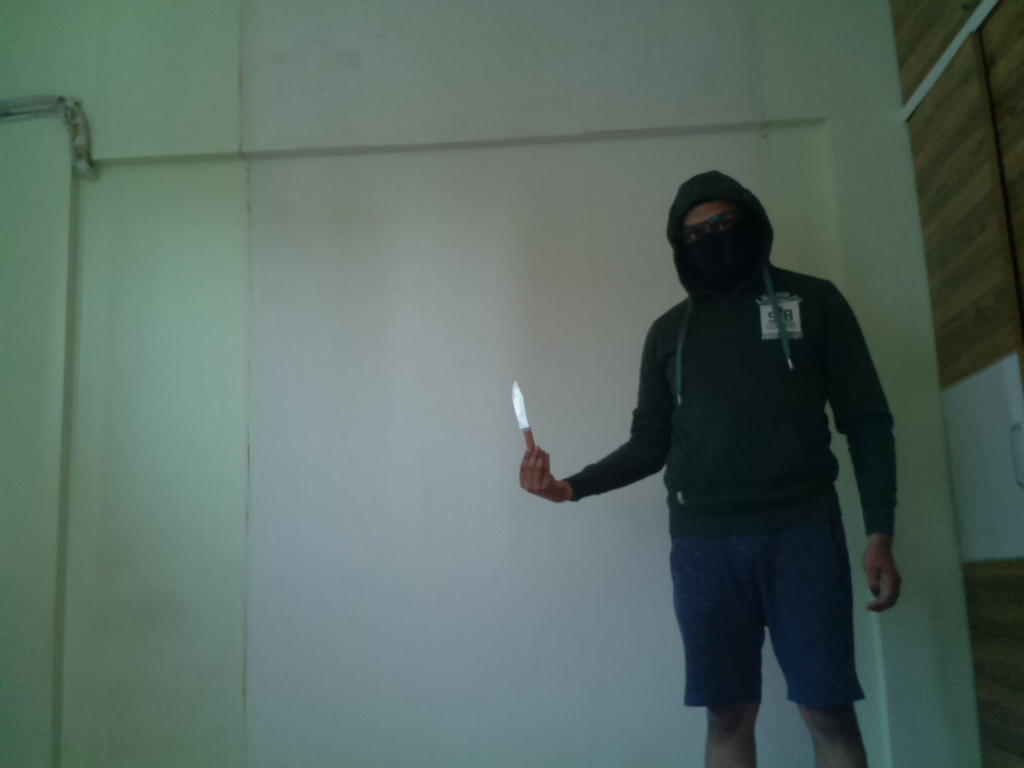knife: (500, 373, 544, 459)
